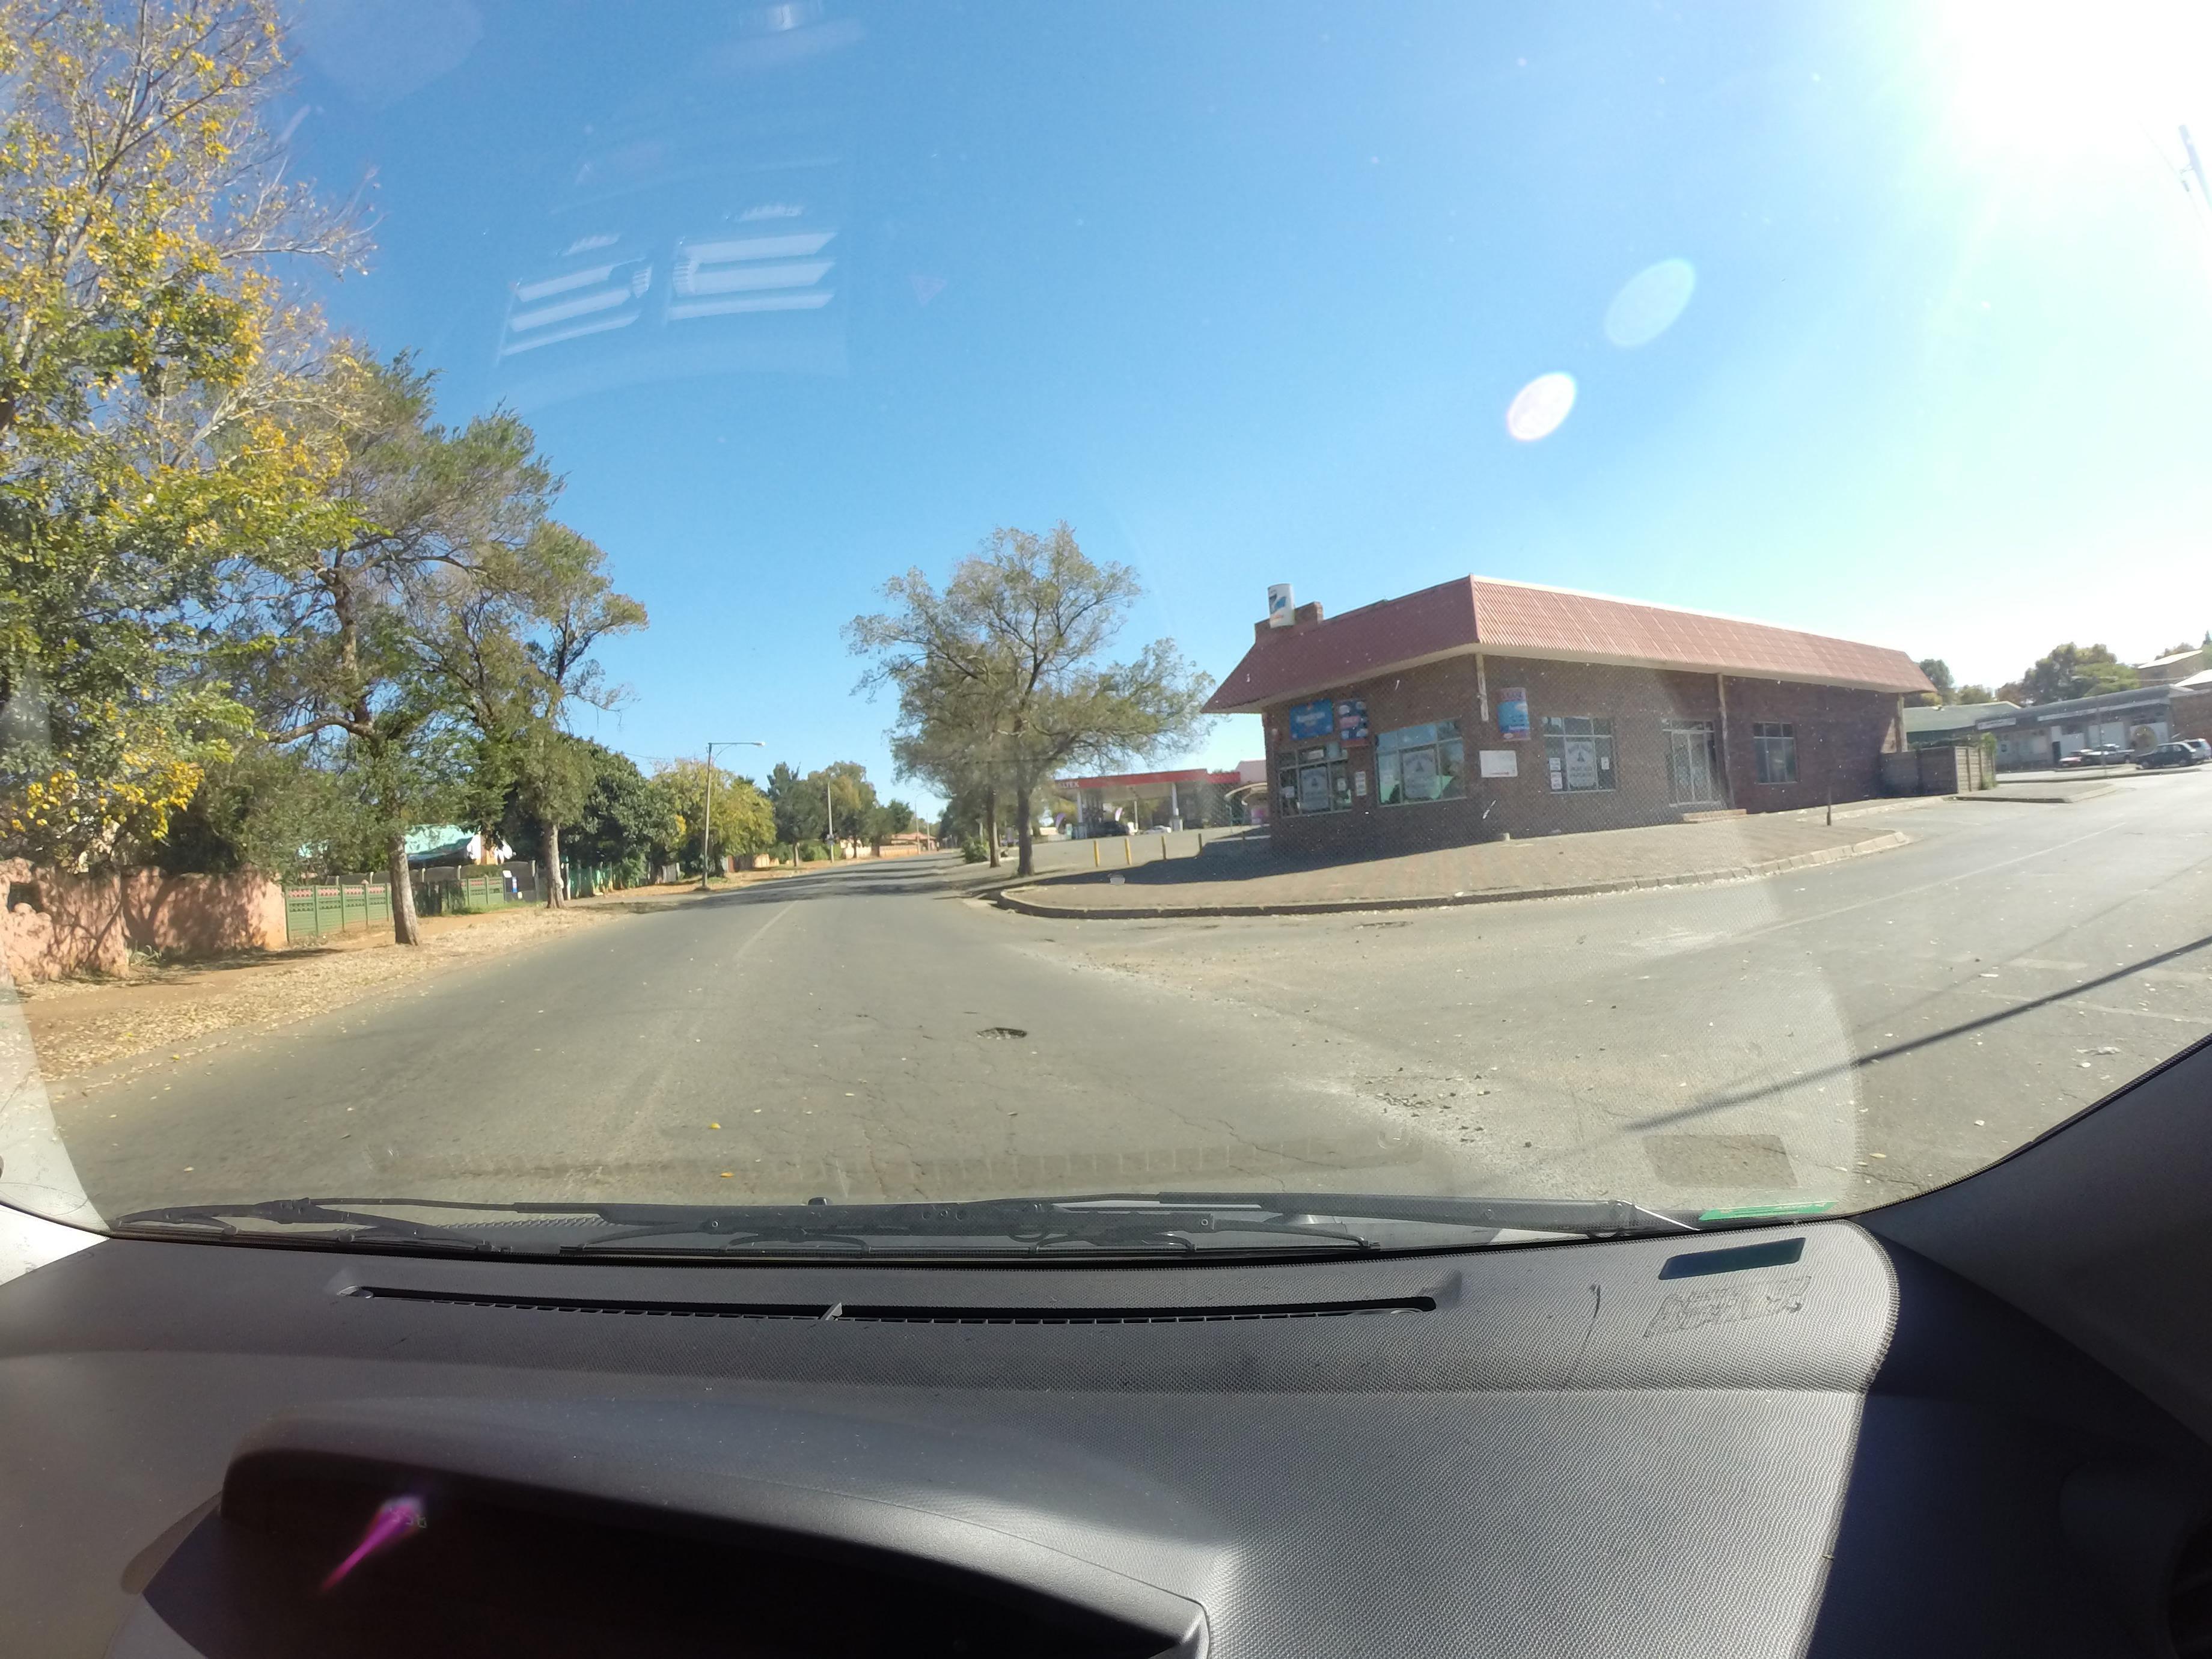pothole: (920, 1002, 1103, 1112)
